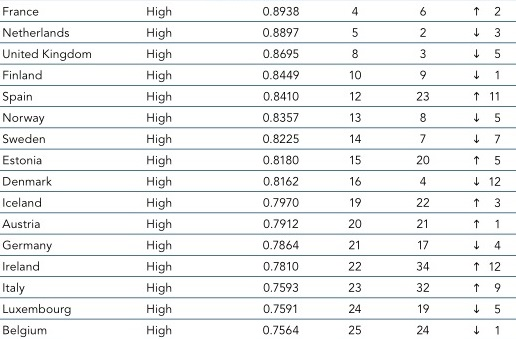column: (2, 1, 91, 339), (263, 1, 300, 339), (147, 1, 172, 339), (348, 1, 362, 339), (416, 1, 429, 339), (490, 1, 502, 339), (473, 1, 480, 339)
row: (1, 69, 516, 82), (1, 113, 516, 126), (1, 133, 516, 146), (1, 155, 516, 168), (1, 198, 516, 211), (1, 49, 516, 61), (1, 177, 516, 189), (1, 304, 516, 316), (1, 326, 516, 338), (1, 6, 516, 17), (1, 27, 516, 38), (1, 92, 516, 103), (1, 220, 516, 231), (1, 240, 516, 251), (1, 283, 516, 294), (1, 261, 516, 271)
